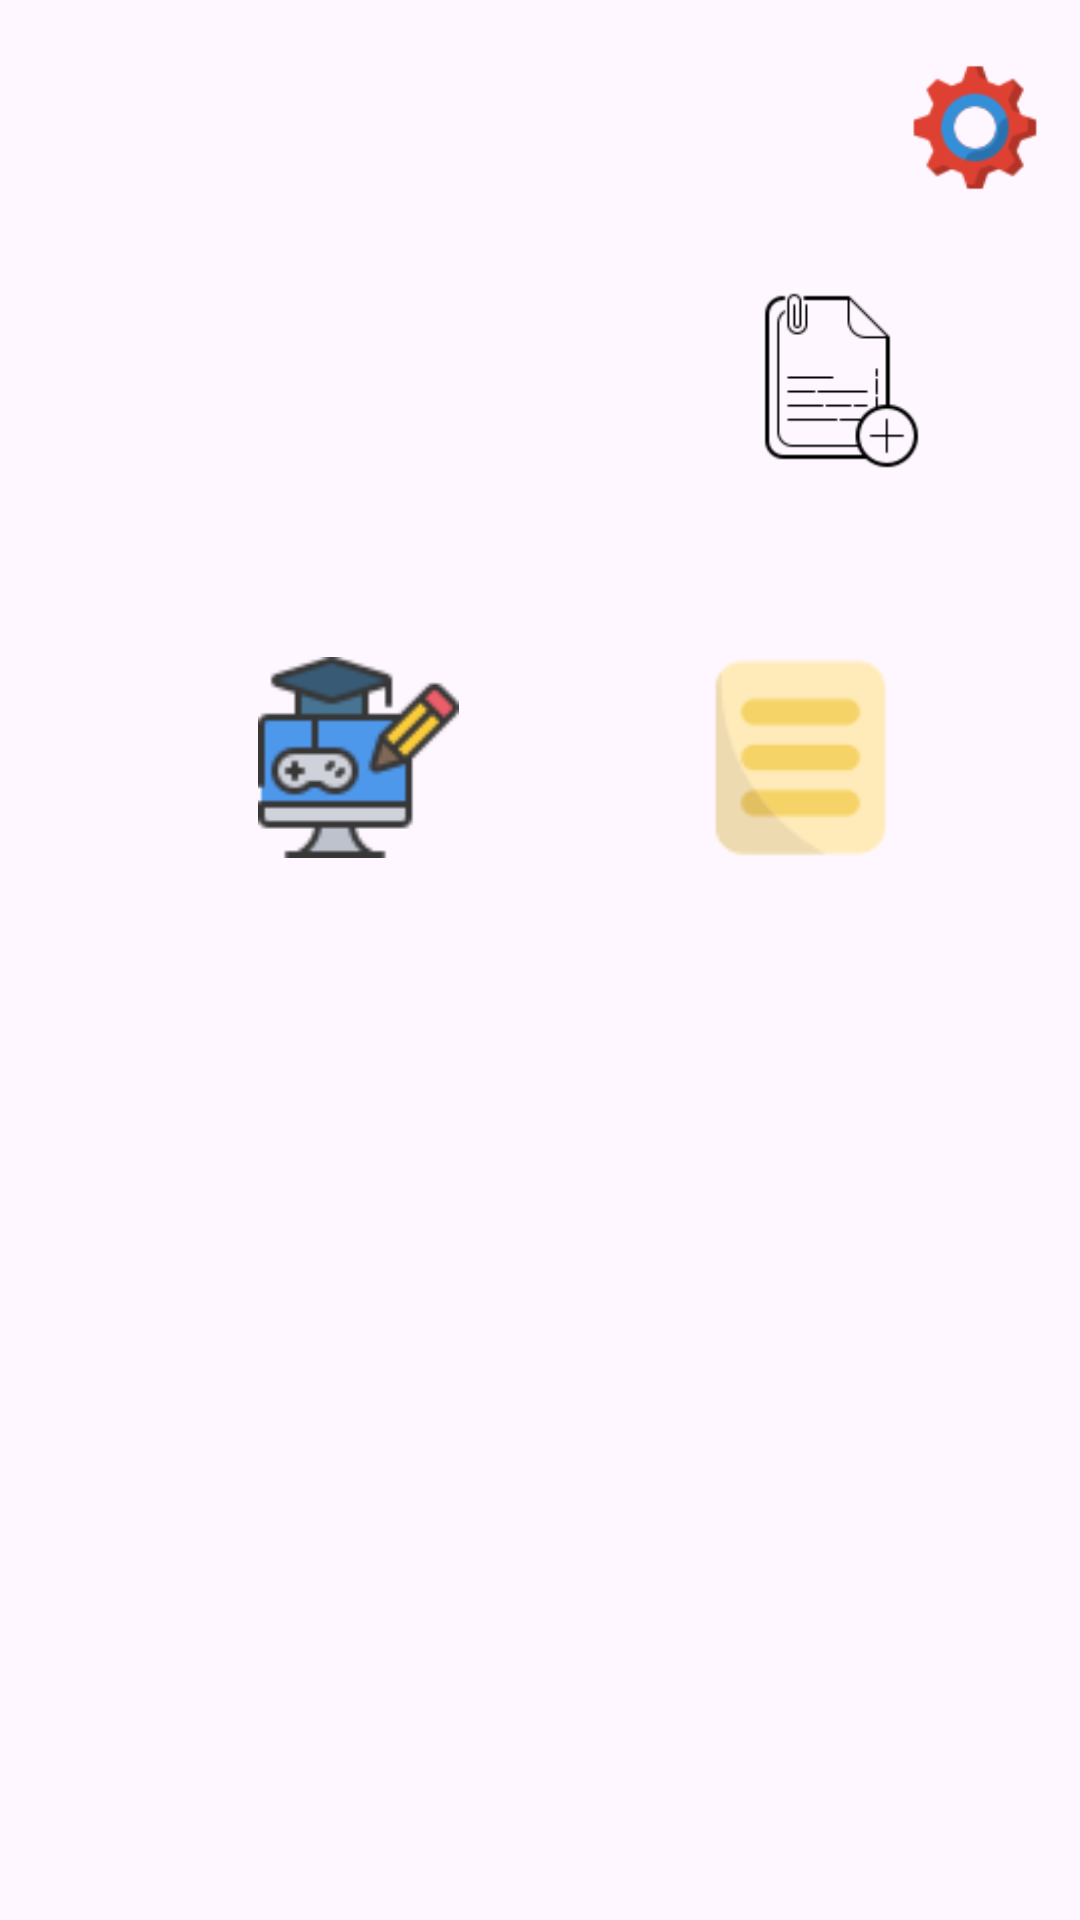

Named icons in this screenshot (1080 × 1920) and their bounding boxes, bbox=[x1, y1, x2, y2]:
add data: bbox=[764, 293, 919, 468]
learn dictionary: bbox=[715, 660, 886, 855]
learn word: bbox=[258, 657, 459, 858]
setting: bbox=[913, 66, 1037, 189]
